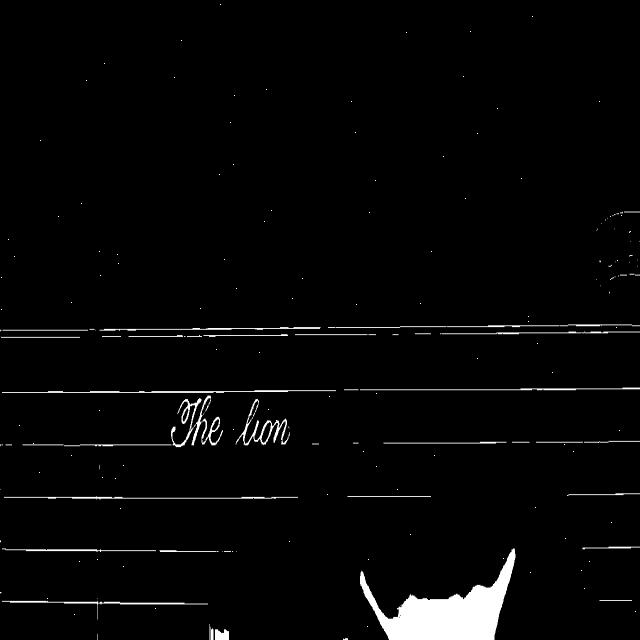hand: (360, 549, 515, 639), (209, 626, 229, 639)
noise: (0, 322, 640, 338), (38, 494, 299, 501), (10, 599, 195, 608), (30, 547, 234, 555), (229, 387, 350, 395), (508, 386, 640, 392), (22, 443, 174, 448), (346, 493, 432, 499), (414, 440, 496, 446), (582, 544, 640, 552), (497, 439, 579, 444), (0, 390, 72, 395), (0, 542, 25, 553), (140, 390, 178, 395), (597, 440, 640, 444), (197, 390, 226, 395), (619, 492, 640, 497), (178, 390, 191, 395), (367, 387, 380, 392), (603, 492, 616, 497), (0, 443, 20, 446), (388, 442, 403, 446), (380, 442, 388, 446), (414, 387, 420, 392), (488, 387, 494, 392), (478, 387, 484, 392), (464, 387, 470, 392), (454, 387, 460, 392), (434, 387, 440, 392), (424, 387, 430, 392), (404, 387, 410, 392), (384, 387, 390, 392), (354, 387, 360, 392), (588, 492, 595, 496), (499, 387, 504, 392), (447, 387, 452, 392), (597, 492, 603, 496), (102, 390, 107, 394), (120, 390, 125, 394), (192, 390, 196, 395), (570, 492, 574, 497), (127, 390, 130, 394), (584, 492, 587, 496), (581, 492, 584, 496), (566, 492, 569, 496), (578, 492, 580, 497), (97, 390, 99, 394), (82, 390, 84, 394), (135, 390, 137, 394), (110, 390, 112, 394), (573, 492, 578, 492)
not-noise: (160, 392, 290, 448)
page-marker: (596, 212, 640, 282)
